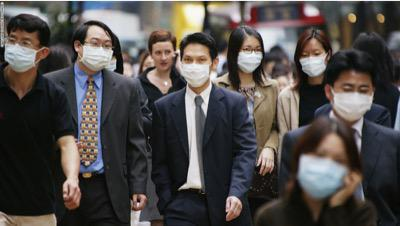with_mask: (298, 146, 351, 201), (330, 82, 374, 122), (3, 32, 37, 72), (78, 35, 115, 71), (180, 52, 213, 86), (298, 48, 327, 78), (237, 42, 263, 74)
without_mask: (152, 47, 174, 70)
